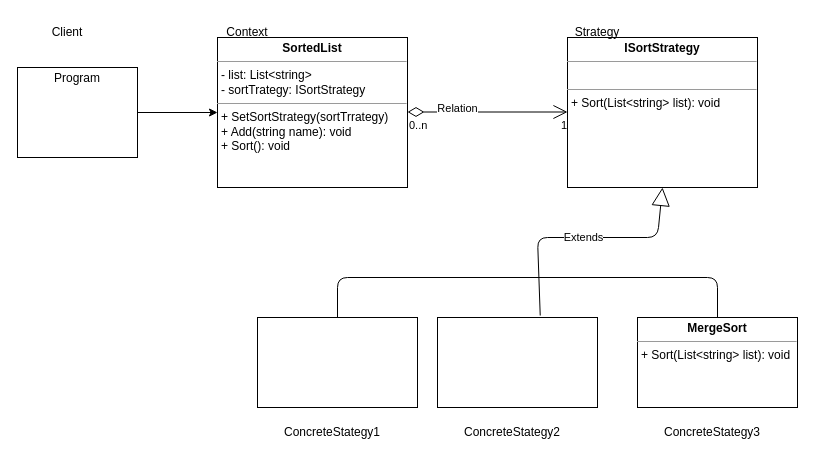
The diagram is 815 pixels wide and 464 high, and some of its shapes have lost their labels. The shapes that lost their labels are listed below. From the top down, each one's centre as x and y in pixels, then its label:
[337,362]: QuickSort + Sort(List<string> list): void
[517,362]: ShellSort + Sort(List<string> list): void
